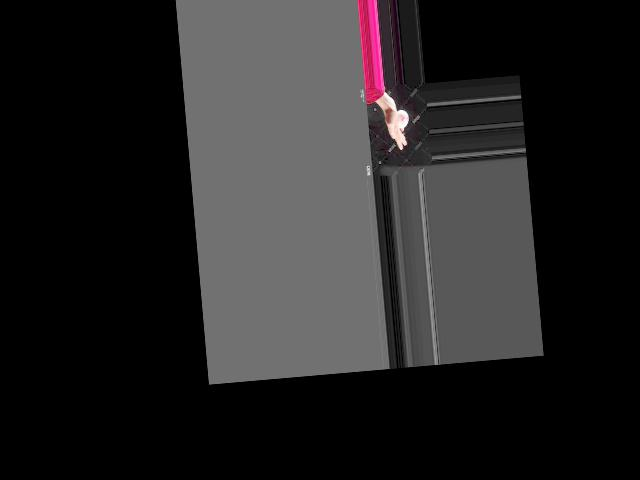egg: (395, 108, 409, 128)
